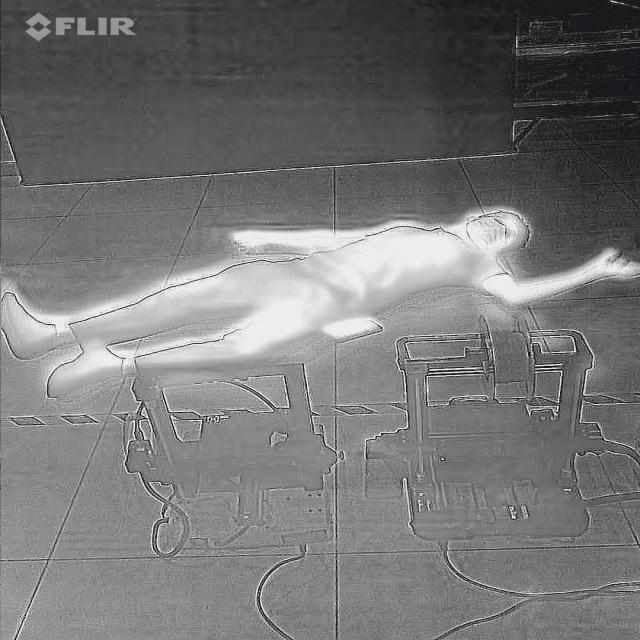Victim: (0, 198, 639, 408)
